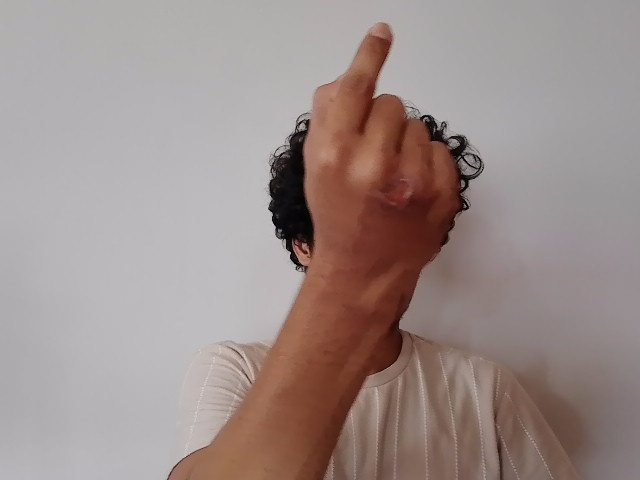just: (299, 19, 468, 270)
